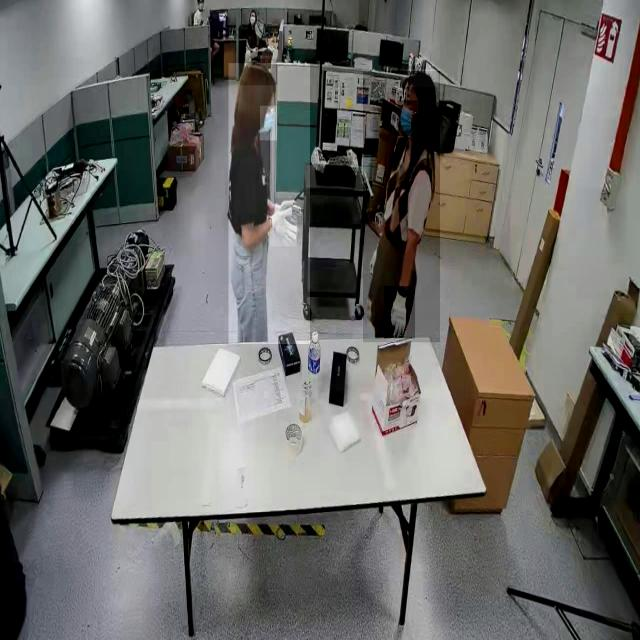face_mask: (397, 100, 417, 136), (260, 106, 277, 140)
hand_glove: (383, 286, 415, 340), (270, 205, 296, 247), (275, 198, 303, 226)
head_nohelmet: (239, 59, 277, 86), (403, 69, 439, 88), (251, 9, 257, 12)
person: (228, 63, 310, 345), (362, 71, 440, 343)
